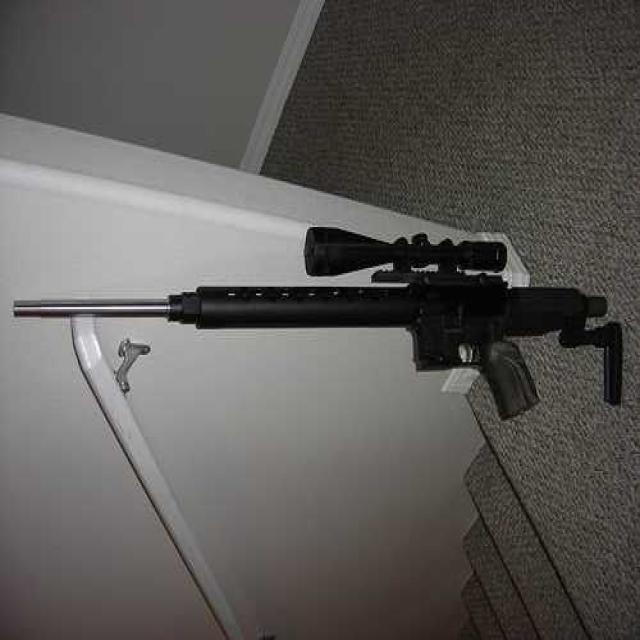heavyweapon: (10, 211, 626, 455)
